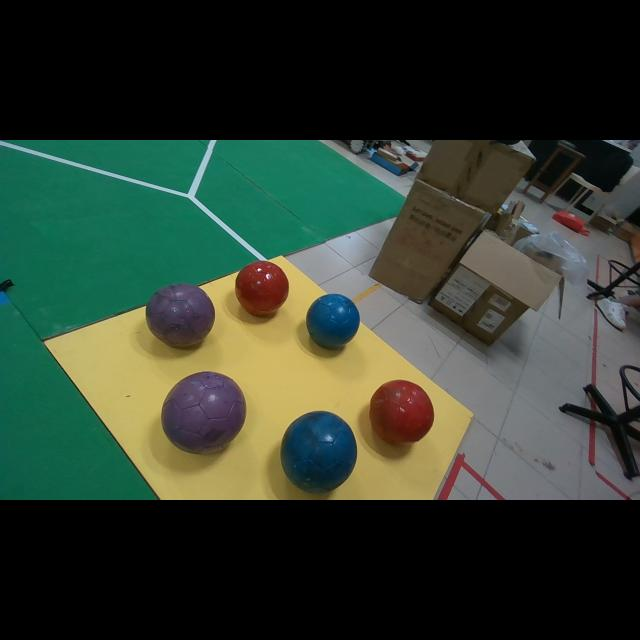B: (280, 411, 358, 493), (306, 294, 360, 349)
P: (161, 371, 246, 454), (146, 282, 215, 348)
R: (370, 380, 434, 444), (235, 261, 289, 316)
